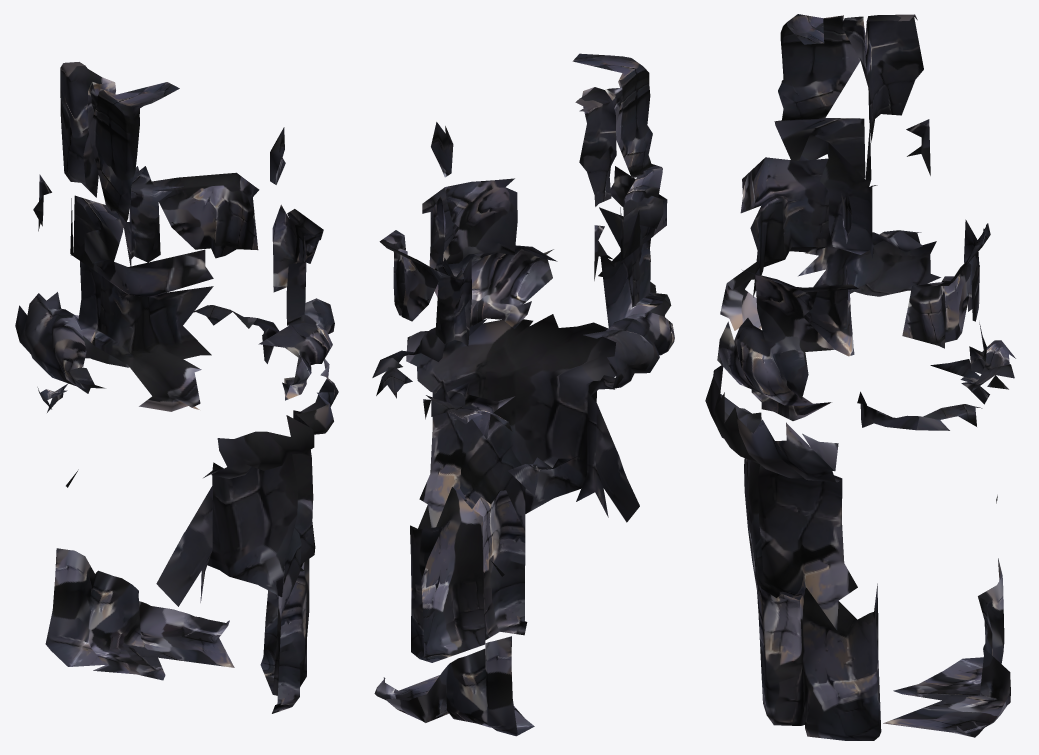
File: RIP0 (2).obj
3 renders of one model, left to right at view 1: azimuth 30°, elevation 25°; view 2: azimuth 150°, elevation 25°; view 3: azimuth 270°, elevation 25°, orthographic. The views are drawn at different scales.
Visible parts, largest first — view 1: RIP0; view 2: RIP0; view 3: RIP0.
Part boxes in pixels (box(x1,y1,x2,y2)): RIP0: box(15, 62, 338, 713); RIP0: box(372, 53, 674, 736); RIP0: box(705, 14, 1015, 740).
Size of the model in its own units: 0.4598 by 1 by 0.4568.
